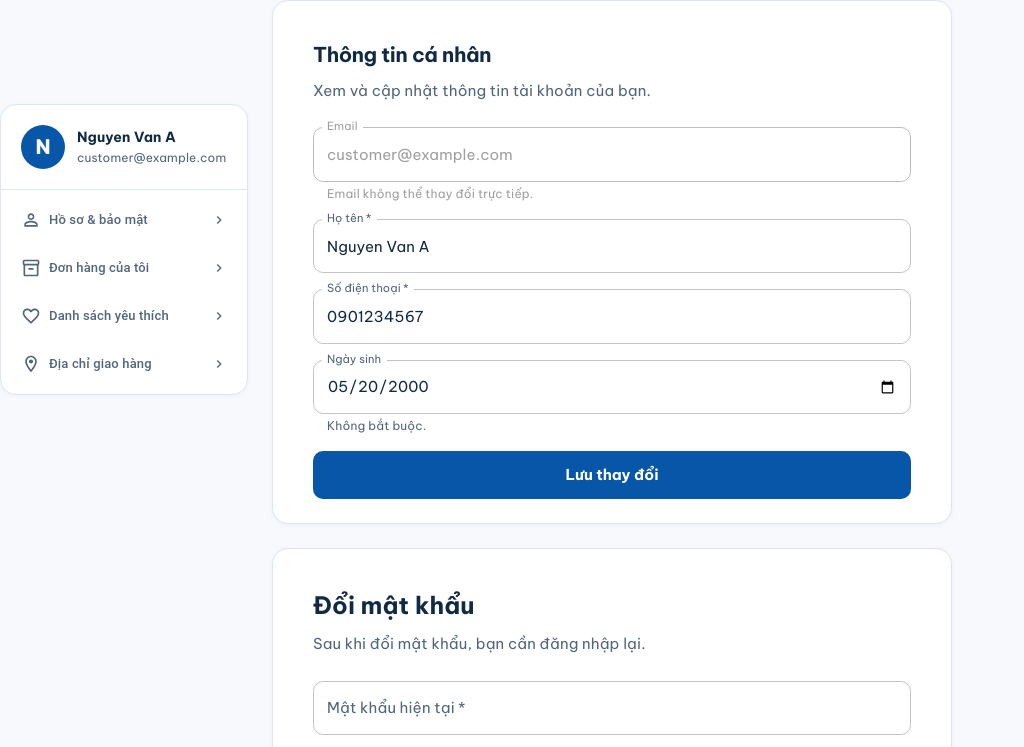
it: personal profile page › updates editable fields and synchronizes the stored user
Replace the text in the field labelled "Họ tên *" with " Nguyen Van B " at (612, 246), box 313,219 -> 911,273
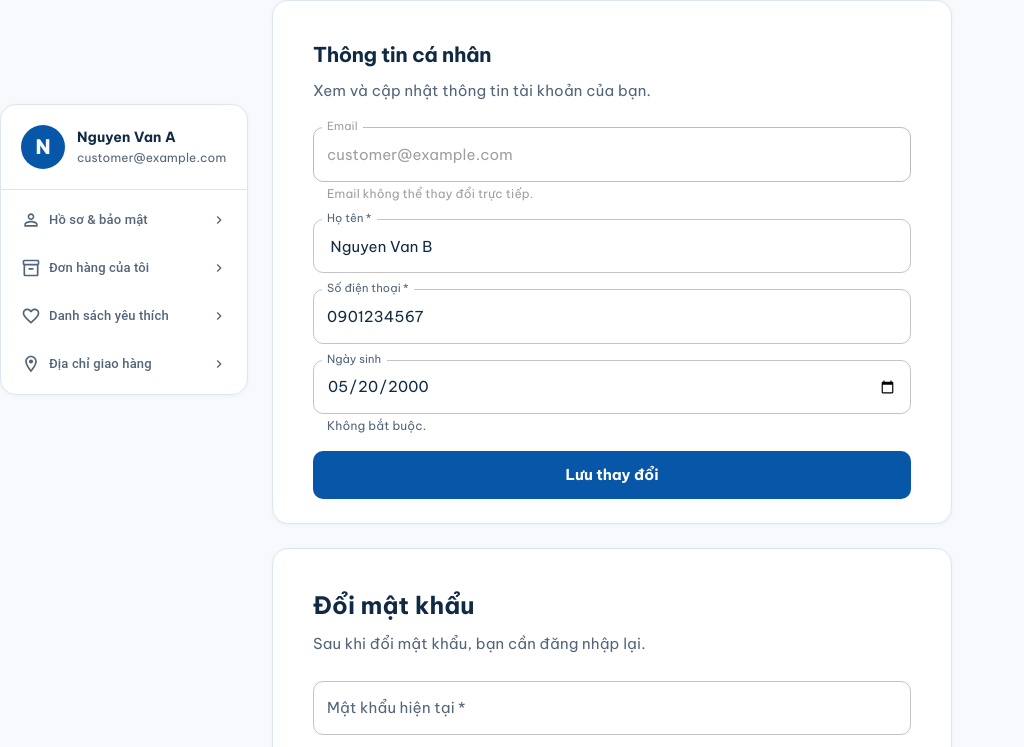
Replace the text in the field labelled "Số điện thoại *" with "0987654321" at (612, 317), box 313,289 -> 911,344
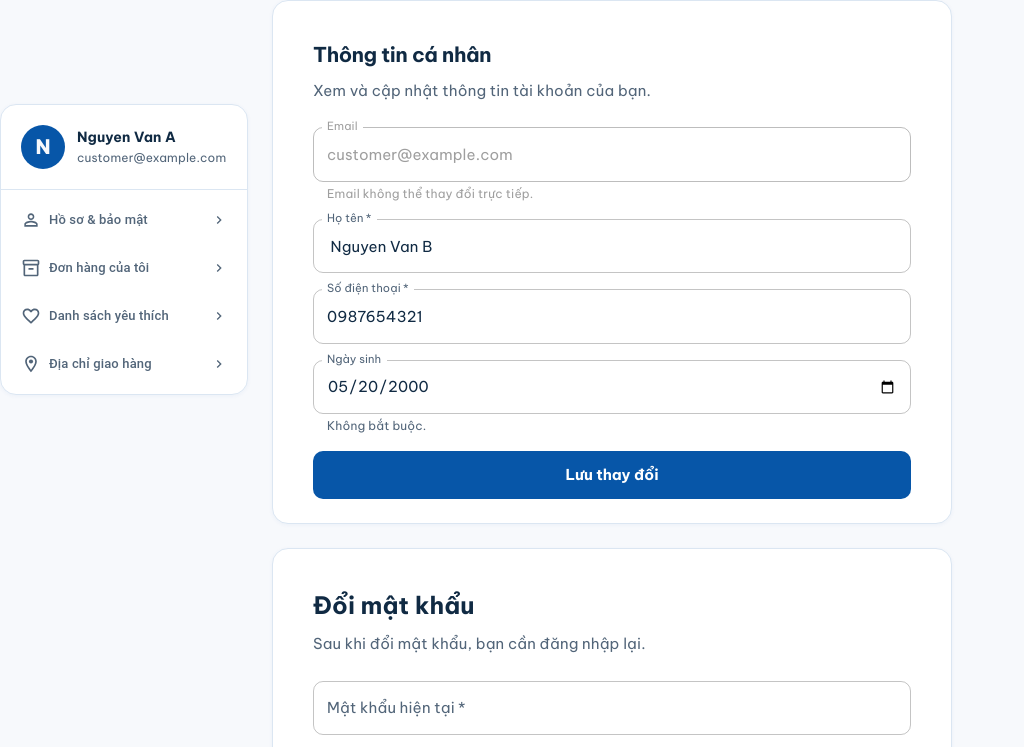
Click the button "Lưu thay đổi" at (612, 475), box 313,451 -> 911,499
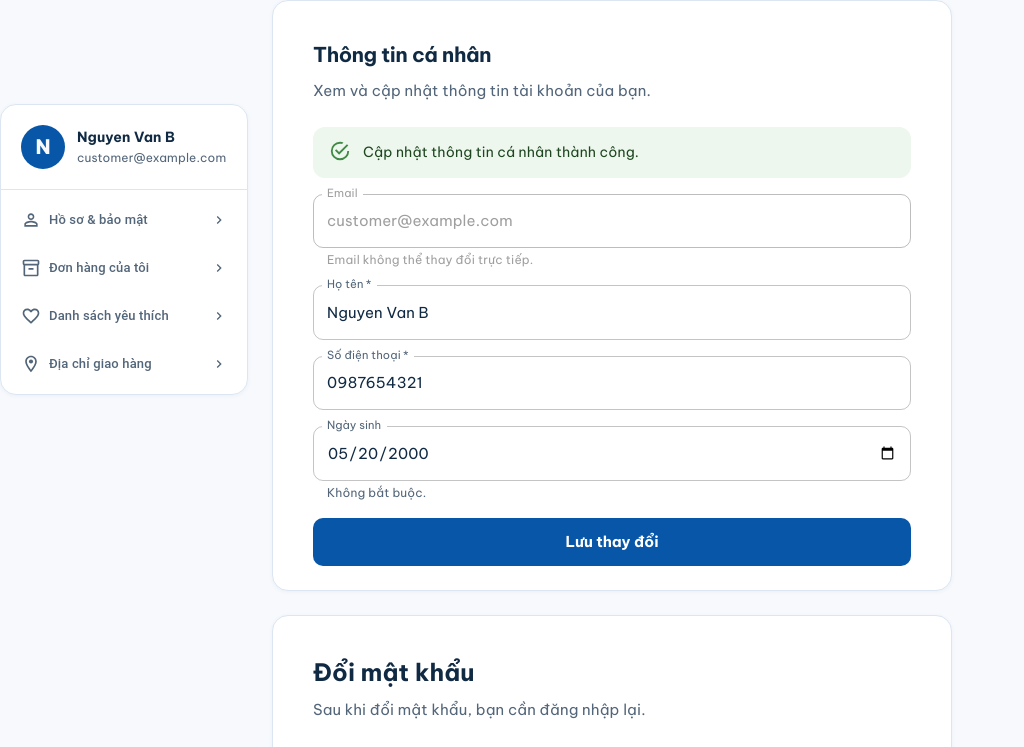
Now the text "Cập nhật thông tin cá nhân thành công." is shown, box 363,143 -> 639,161
